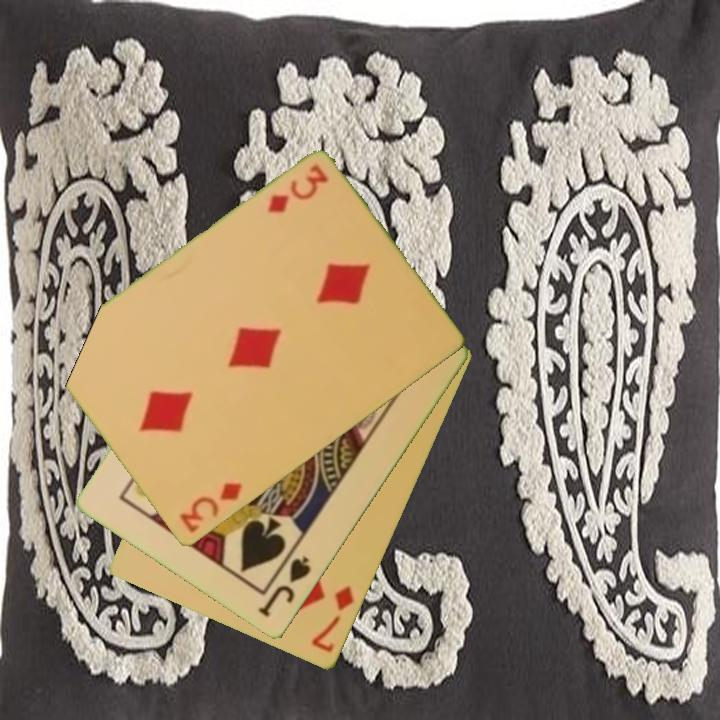3d: (176, 479, 245, 537), (264, 161, 332, 217)
7d: (308, 583, 358, 656)
Js: (255, 553, 314, 621)
